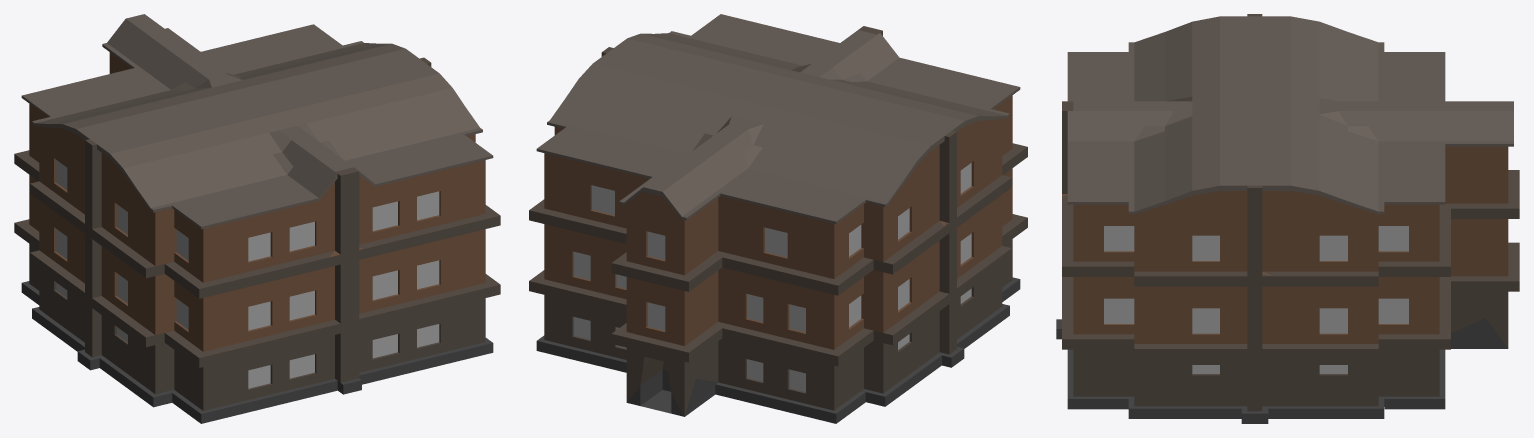
File: House1_LOD1.fbx
3 renders of one model, left to right at view 1: azimuth 30°, elevation 25°; view 2: azimuth 150°, elevation 25°; view 3: azimuth 270°, elevation 25°, orthographic. The views are drawn at different scales.
Visible parts, largest first — view 1: Cube; view 2: Cube; view 3: Cube.
Boxes of the visible parts, <box> form: Cube: <box>14,14,500,423</box>; Cube: <box>529,14,1027,423</box>; Cube: <box>1056,14,1519,423</box>.
Size of the model in its own units: 3700 by 2250 by 4050.
